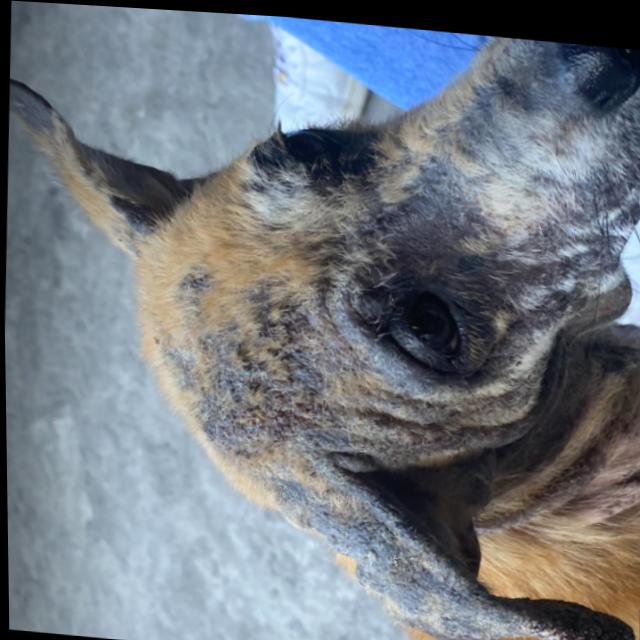demodicosis: (185, 315, 469, 481)
